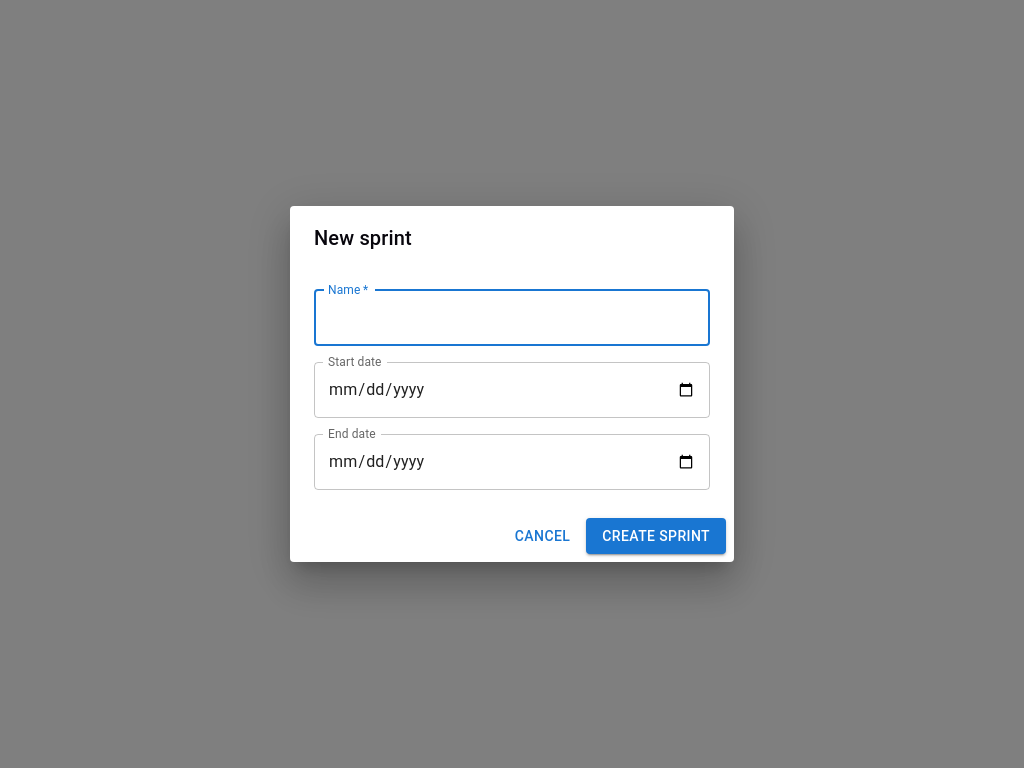
it: CreateSprintDialog › shows validation error when name is empty
Click the button "Create sprint". click: (656,536)
box: [586,518,726,554]
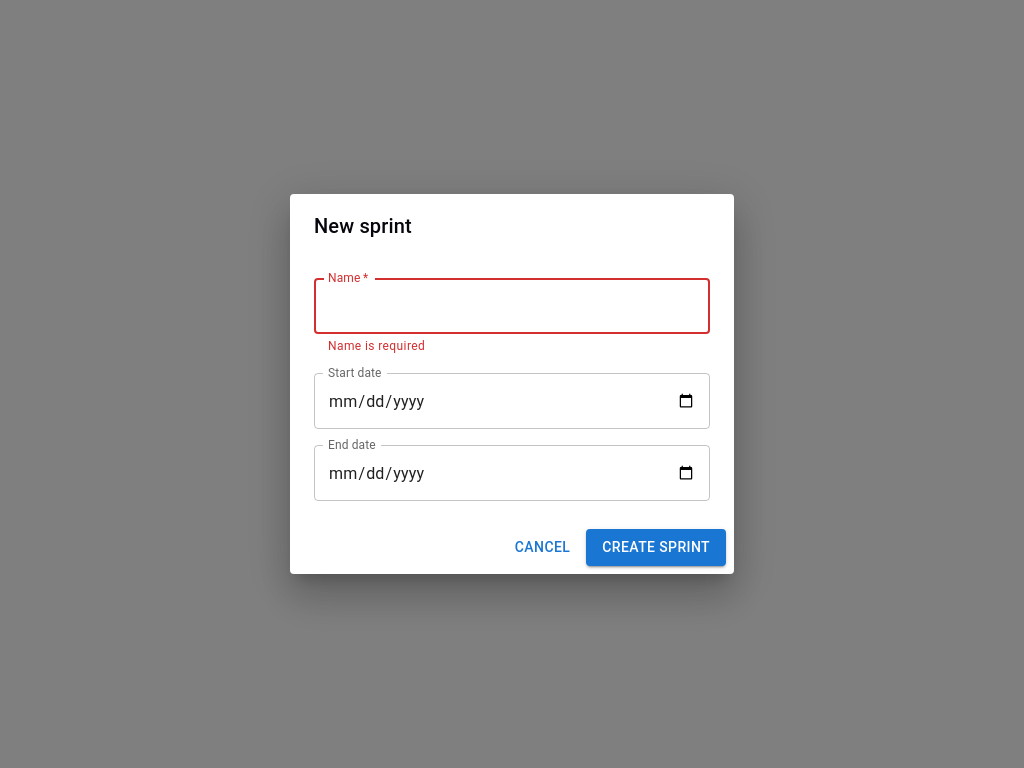
Result: the text "Name is required" is shown at [328,339,425,353]
